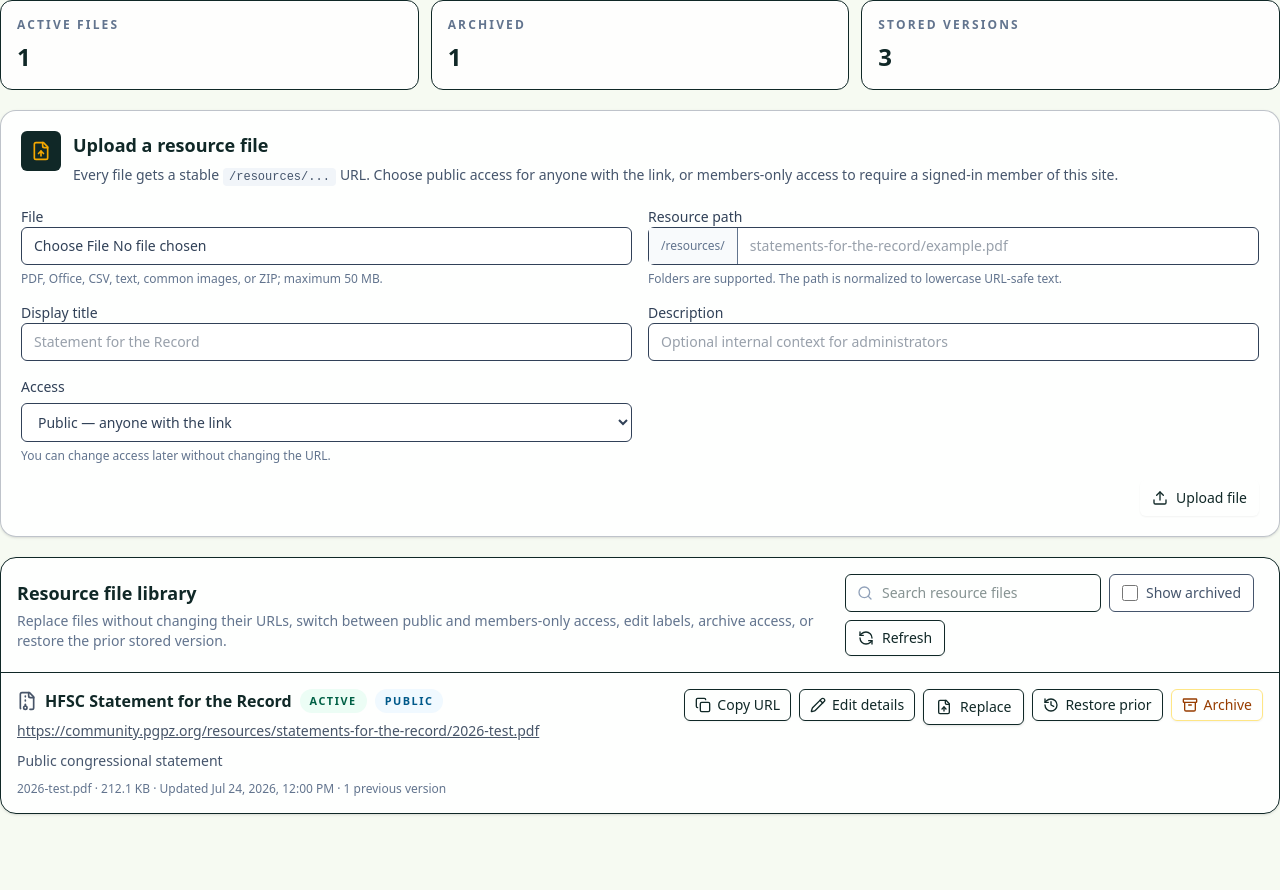
Test: PublicFileLibraryPanel › reveals archived files on request
Expected: the heading "HFSC Statement for the Record" is shown, [45,689,292,713]
What coordinates should you click on to do the following:
click the checkbox labelled "Show archived"
I would click on:
 (1130, 593)
Its box is [1122,585,1138,601].
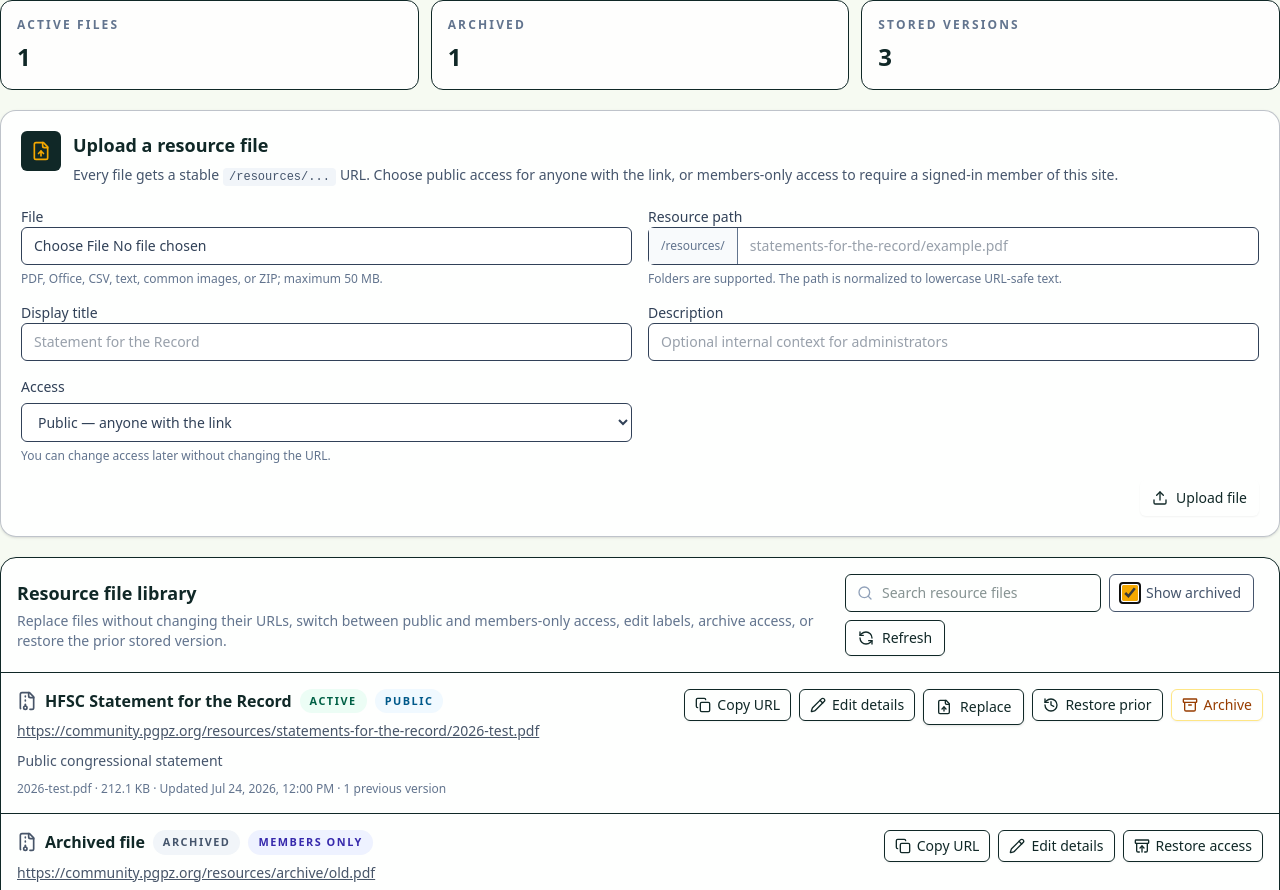
Now the heading "Archived file" is shown, box [45,830,145,854]
Now the button "Restore access" is shown, box [1122,830,1263,862]
Now the text "Members only" is shown, box [248,830,373,855]
